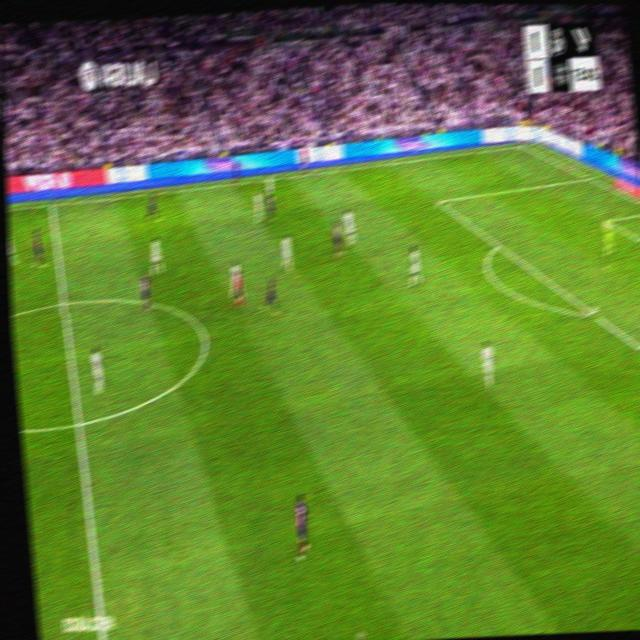bigarea_top_inner: (434, 193, 445, 208)
bigarea_top_outter: (582, 168, 593, 182)
bottom_arc_area_intersection: (587, 304, 599, 322)
corner: (517, 140, 527, 150)
halfcircle_bottom: (70, 407, 87, 438)
halfcircle_top: (56, 292, 71, 315)
midline_top_intersection: (46, 199, 57, 212)
top_arc_area_intersection: (492, 237, 504, 252)
